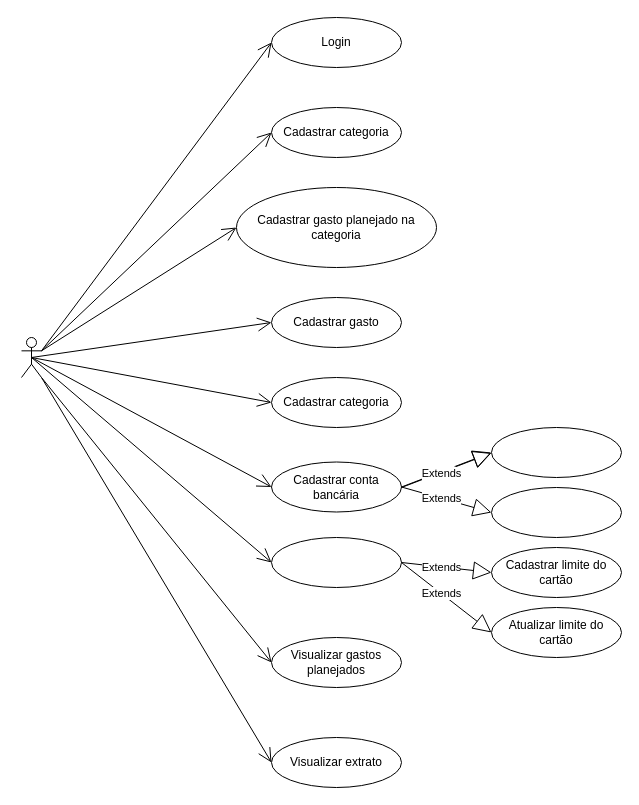
The diagram is 639 pixels wide and 805 high, and some of its shapes have lost their labels. The shapes that lost their labels are listed below. From the top down, each one's box as (x1, y1, x2, y2) in pixels, then its label:
(20, 336, 42, 378): Actor
(490, 426, 622, 478): Cadastrar saldo da conta
(490, 486, 622, 538): Atualizar saldo da conta
(270, 536, 402, 588): Cadastrar cartão de crédito
